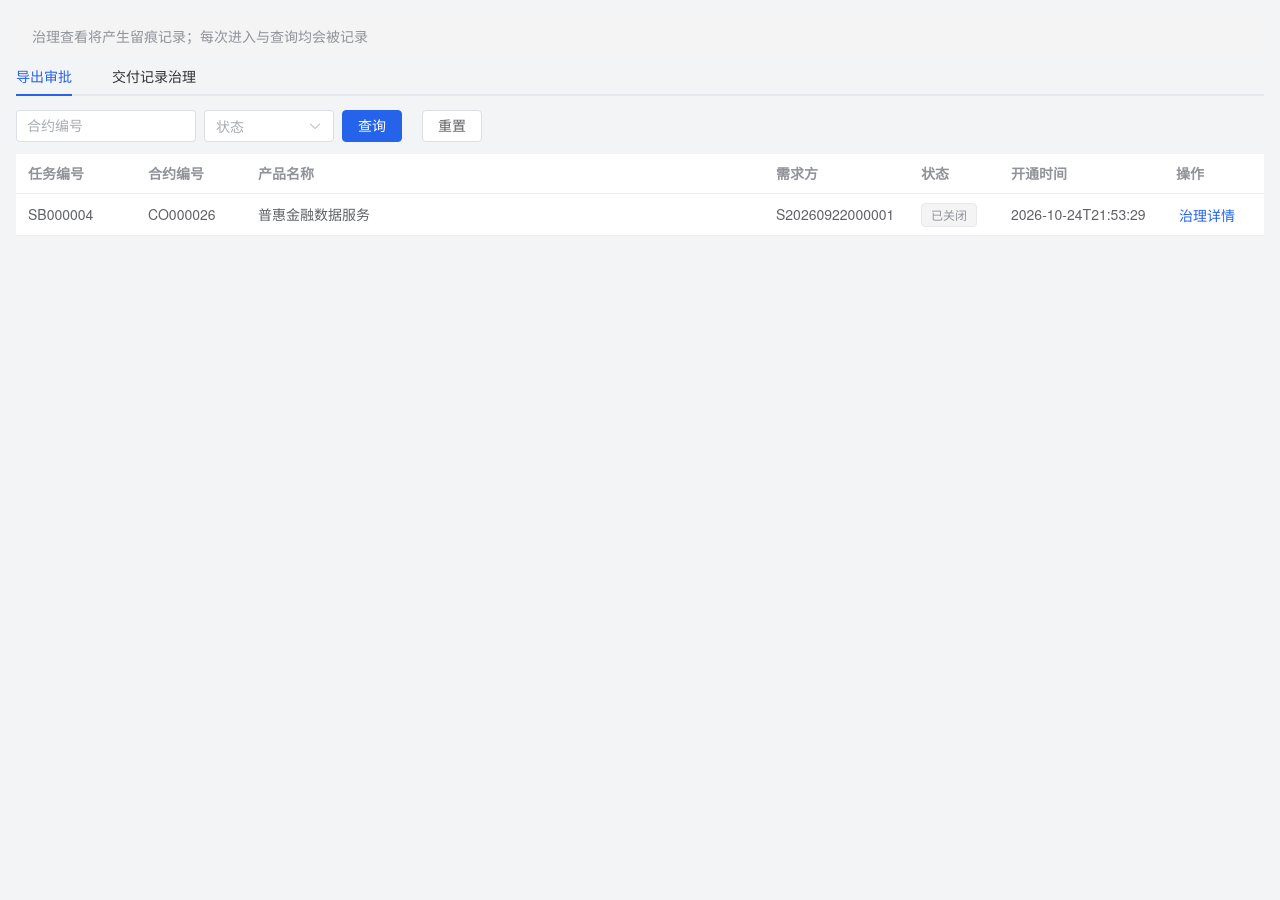
it: 动作留痕区（T13 / G7b） › 空态：无留痕行时空态精确展示"暂无留痕"
What coordinates should you click on to do the following:
click the button "治理详情"
I would click on:
 (1207, 216)
Its box is [1176,206,1238,226].
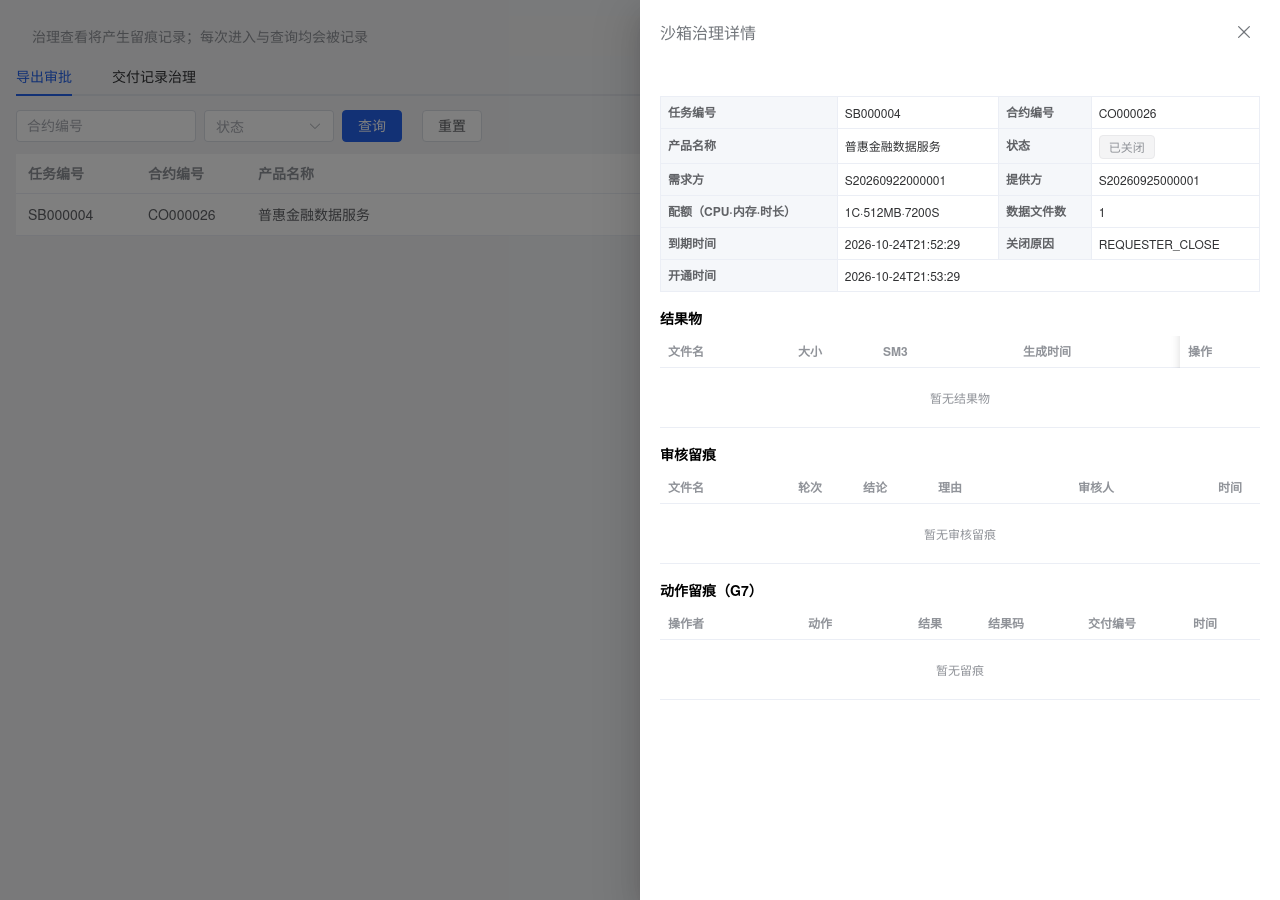
Now the text "暂无留痕" is shown, box [936,661,984,678]
